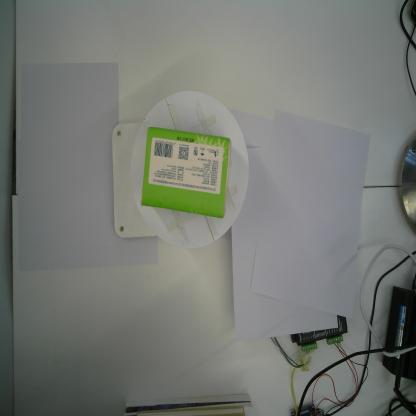Tissue: (138, 125, 235, 220)
